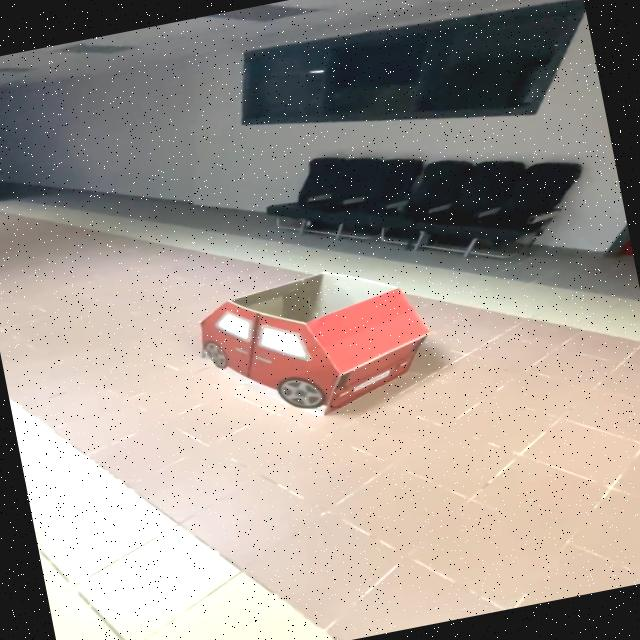red_car: (142, 239, 471, 465)
